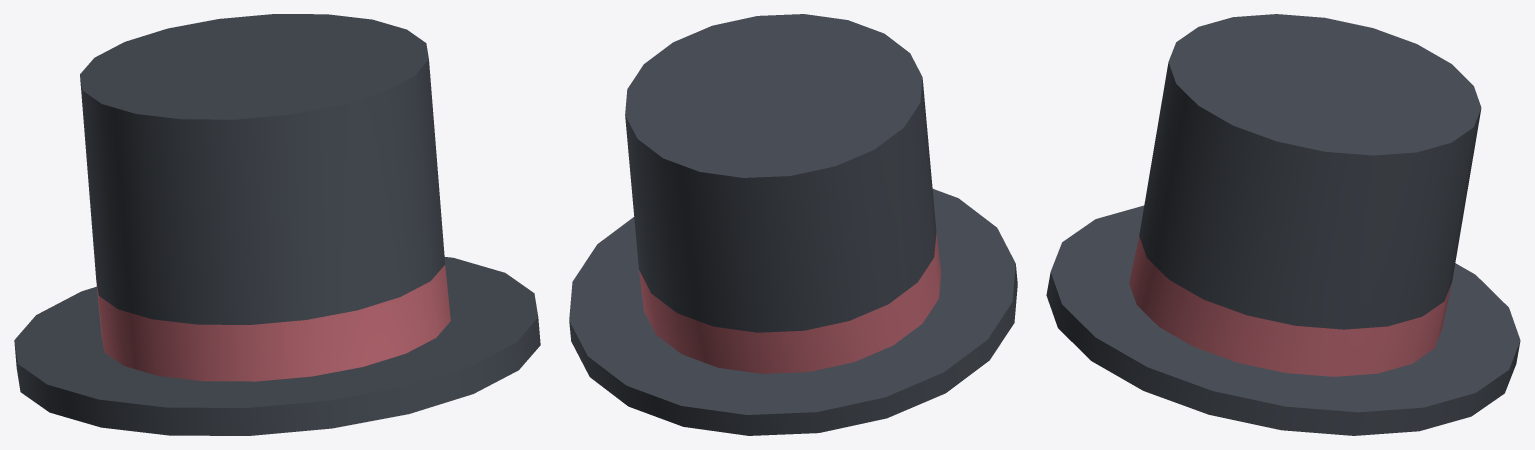
File: tophat.fbx
The picture shows the model from 3 angles, left to right: view 1: azimuth 30°, elevation 25°; view 2: azimuth 150°, elevation 25°; view 3: azimuth 270°, elevation 25°; orthographic projection. The views are drawn at different scales.
Visible parts, largest first — view 1: tophat; view 2: tophat; view 3: tophat.
Part boxes in pixels (left/top/right/bottom): tophat: left=14, top=14, right=540, bottom=435; tophat: left=569, top=14, right=1017, bottom=435; tophat: left=1046, top=14, right=1520, bottom=435.
Bounding box in the file's own units: 43.69 × 30.6 × 43.52.
